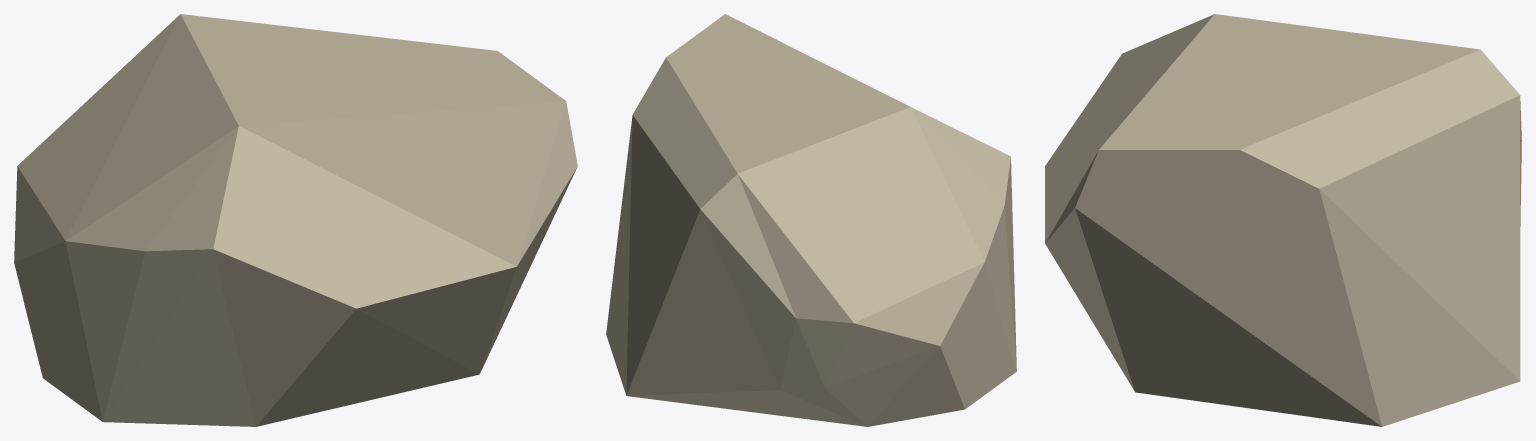
The model's file is object_landscape_stone_medium.glb.
3 renders of one model, left to right at view 1: azimuth 30°, elevation 25°; view 2: azimuth 150°, elevation 25°; view 3: azimuth 270°, elevation 25°, orthographic. The views are drawn at different scales.
Visible parts, largest first — view 1: object_landscape_stone_medium; view 2: object_landscape_stone_medium; view 3: object_landscape_stone_medium.
Boxes of the visible parts, bbox=[...] form: object_landscape_stone_medium: bbox=[14, 14, 577, 426]; object_landscape_stone_medium: bbox=[606, 14, 1016, 426]; object_landscape_stone_medium: bbox=[1045, 14, 1521, 426].
Bounding box in the file's own units: 0.2675 × 0.1722 × 0.2684.
